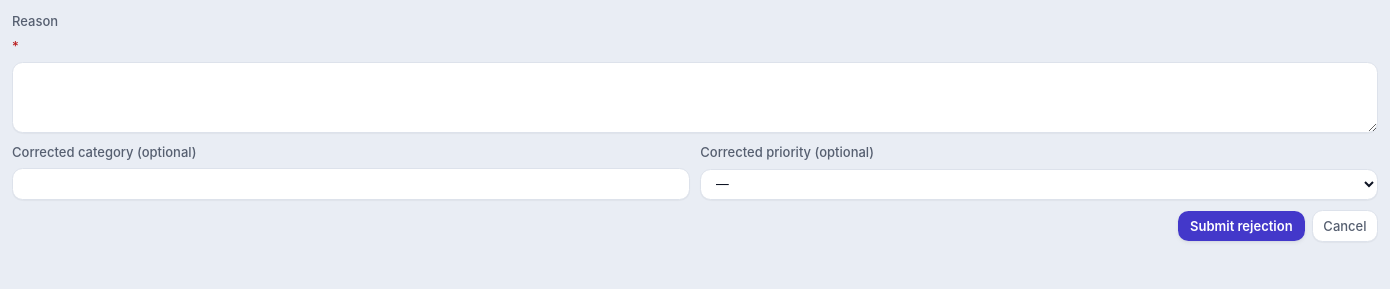
RejectForm › refuses submission with an empty reason (FR-038,§11.3)
Click the button "Submit rejection".
click(1241, 226)  # box [1178,211,1305,241]
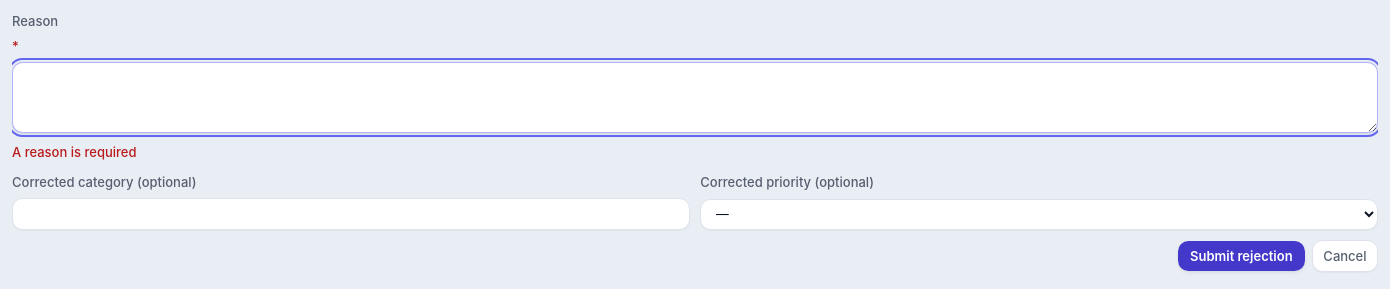
expect the message shows "reason is required": met, box [12,144,136,160]
